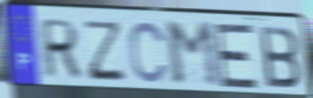B: (257, 24, 303, 90)
C: (128, 20, 170, 86)
E: (213, 22, 260, 90)
M: (162, 20, 224, 89)
R: (40, 18, 83, 81)
Z: (84, 18, 127, 82)
